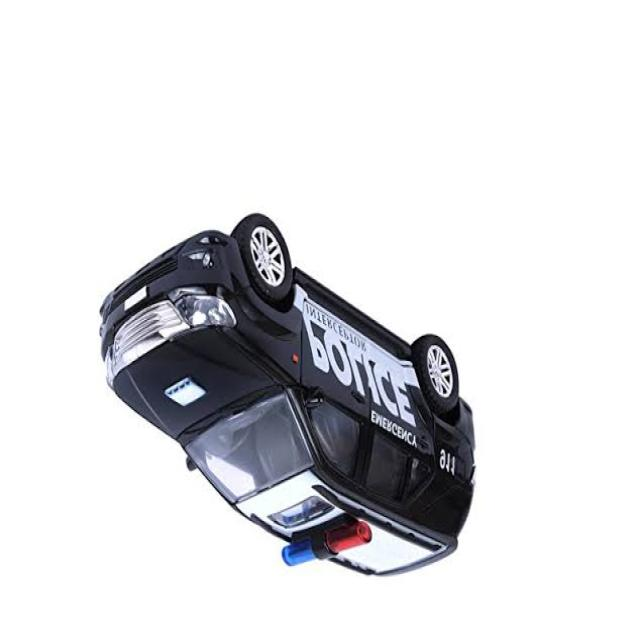Car: (98, 213, 476, 579)
